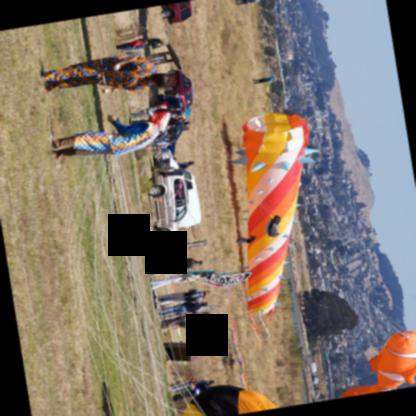backpack: (183, 290, 202, 301), (179, 257, 196, 266)
